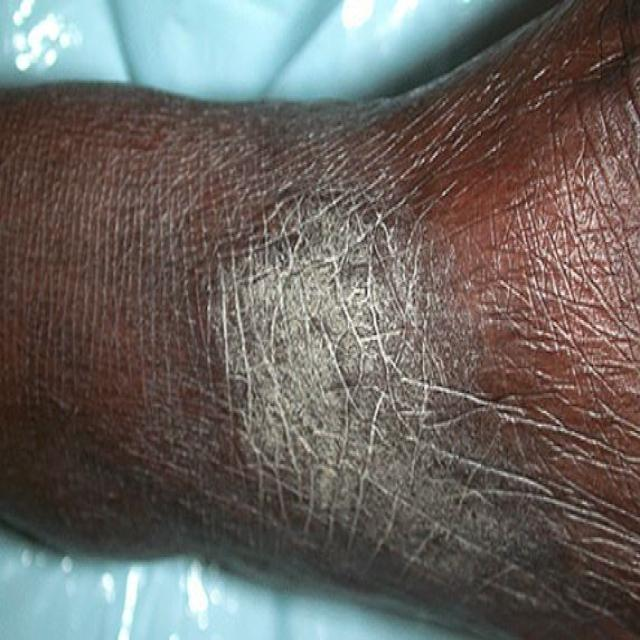Eczema: (139, 171, 563, 609)
